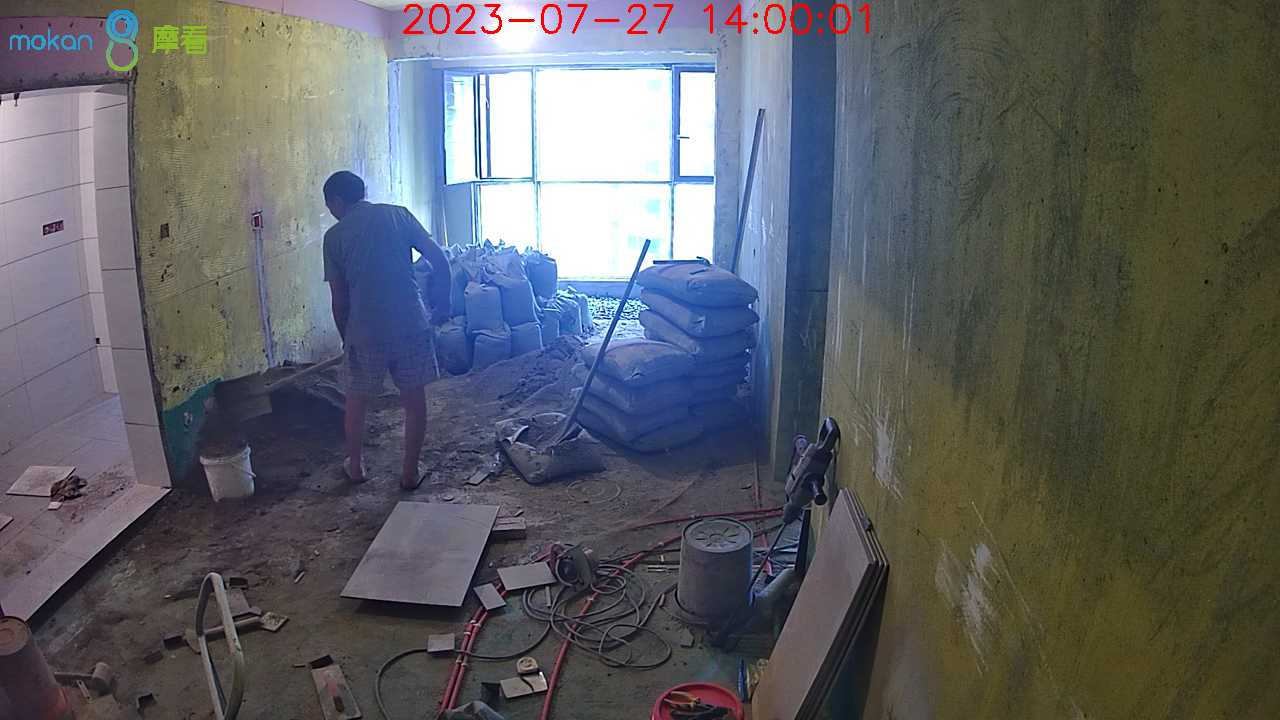people: (313, 169, 454, 492)
window: (447, 67, 714, 274)
